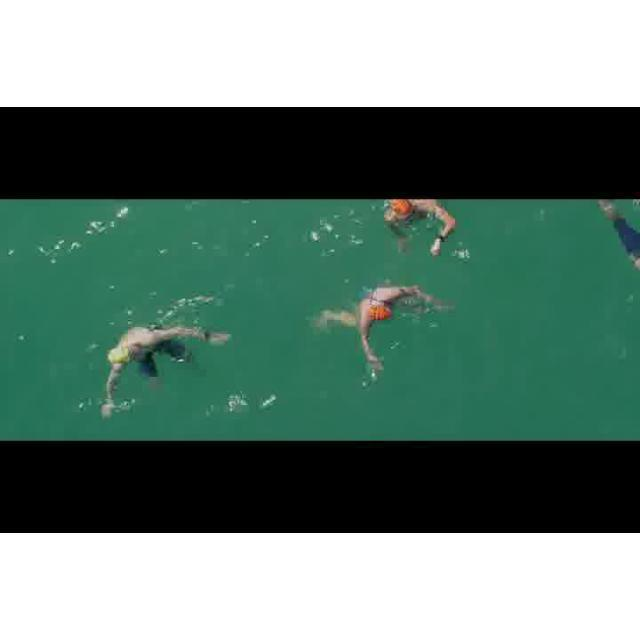human: (99, 318, 226, 412), (348, 277, 435, 386), (384, 199, 460, 260)
